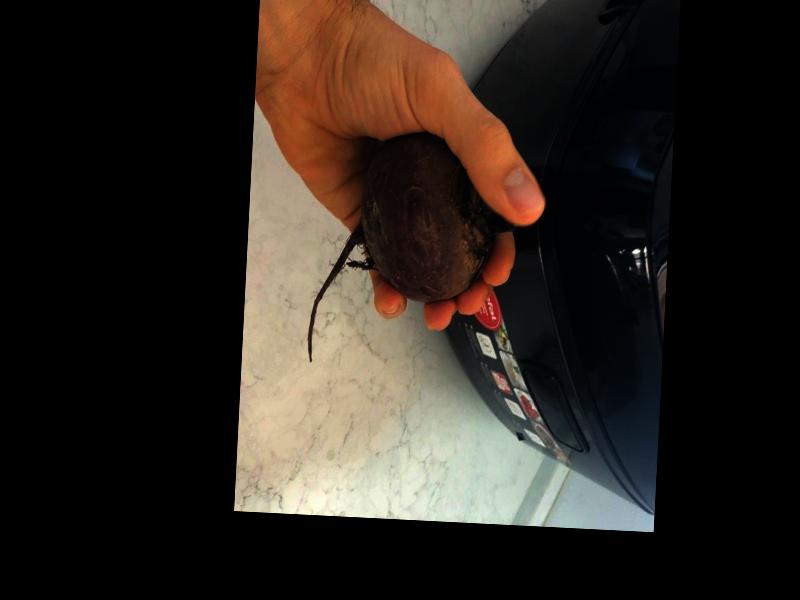Beet: (307, 128, 518, 371)
